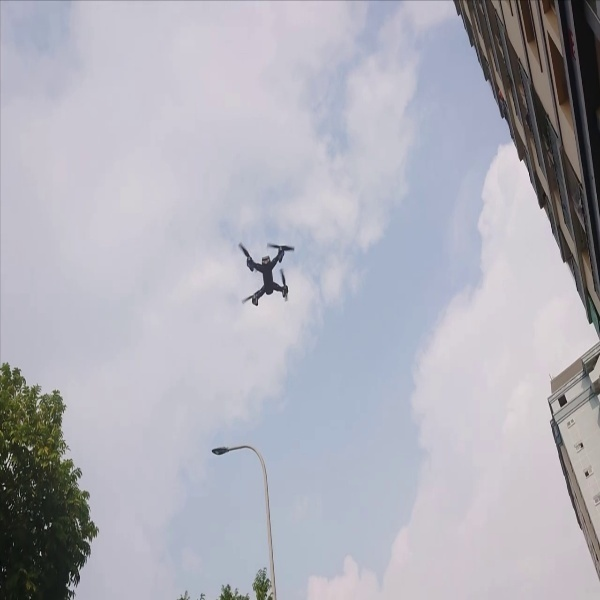drone: (225, 232, 305, 312)
